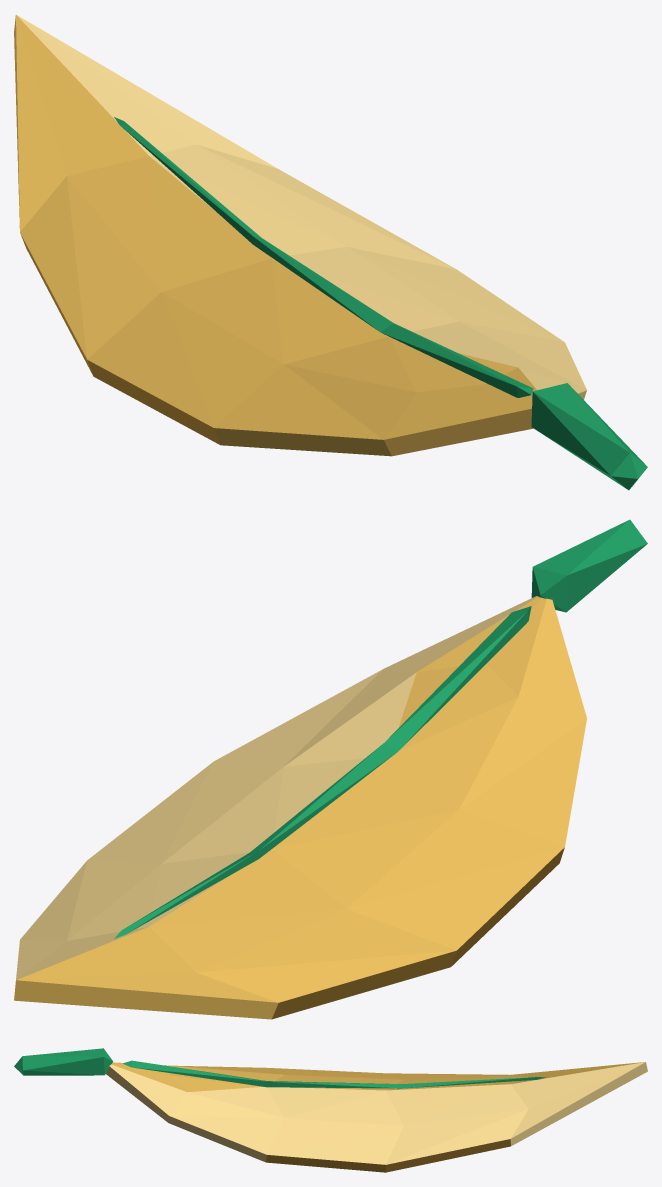
Rendered from KirinVFX_LeafGold.fbx.
The picture shows the model from 3 angles, top to bottom: view 1: azimuth 30°, elevation 25°; view 2: azimuth 150°, elevation 25°; view 3: azimuth 270°, elevation 25°; orthographic projection. The views are drawn at different scales.
Parts seen in each view (by area): view 1: KirinVFX_LeafGold_Body; view 2: KirinVFX_LeafGold_Body; view 3: KirinVFX_LeafGold_Body.
Part boxes in pixels (x1,y1,x2,y2): KirinVFX_LeafGold_Body: (14, 14, 647, 490); KirinVFX_LeafGold_Body: (14, 519, 647, 1019); KirinVFX_LeafGold_Body: (14, 1048, 647, 1172).
Size of the model in its own units: 0.24 by 0.0925 by 0.7022.
1 material, 1 textured.
